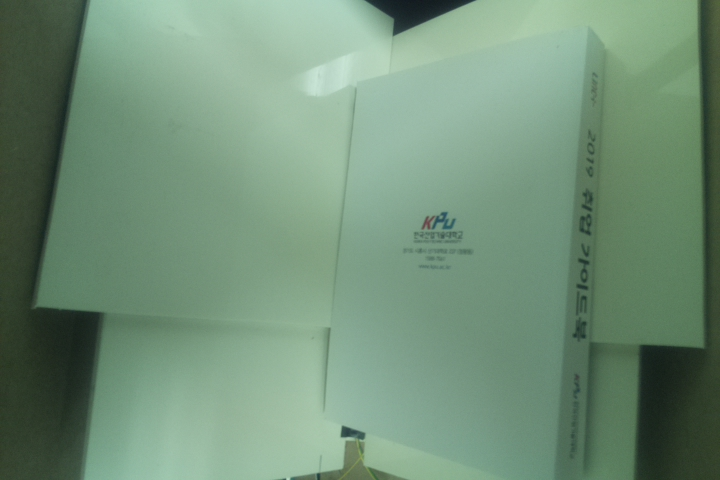book: (317, 25, 609, 480)
